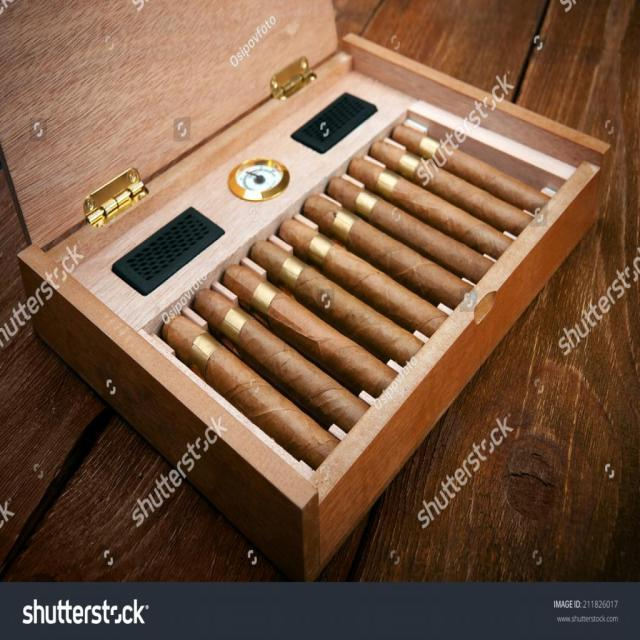smoking: (155, 61, 556, 477)
